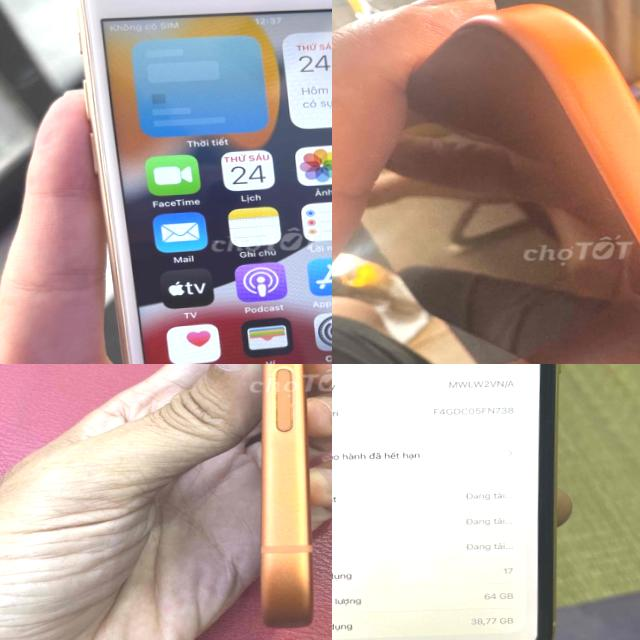gen_11: (332, 364, 570, 640)
gen_17: (373, 4, 640, 364), (238, 364, 332, 632)
gen_7_8: (71, 0, 332, 364)
